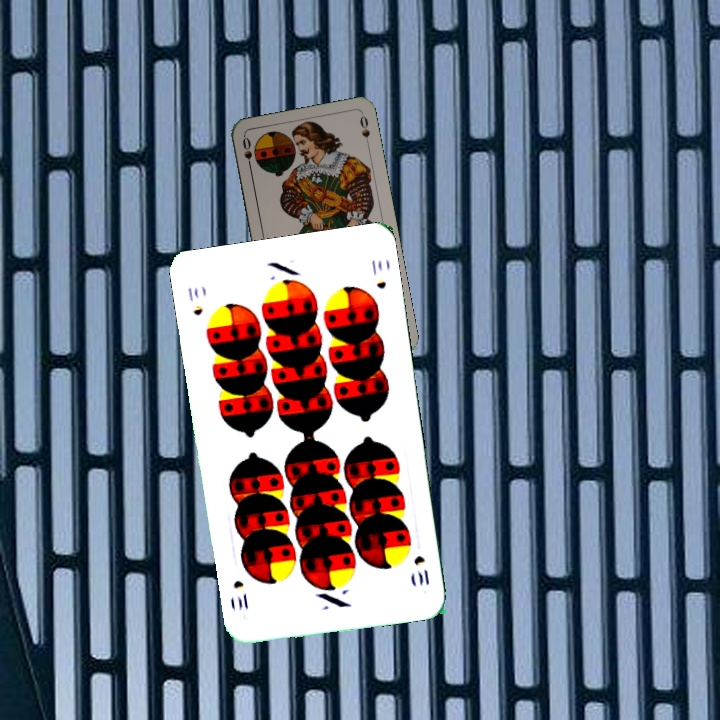S10: (410, 551, 432, 588), (184, 283, 205, 318)
SO: (238, 133, 255, 174)
